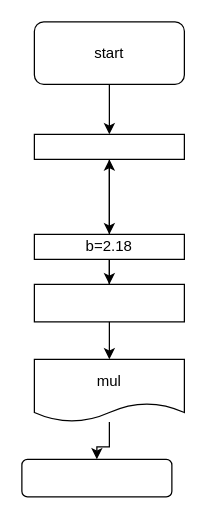
This 206x519 diagram has some shape labels left out. The centre of each missing label's shape, as x and y in pixels:
a=1.75: point (108, 146)
mul=a*b: point (108, 302)
